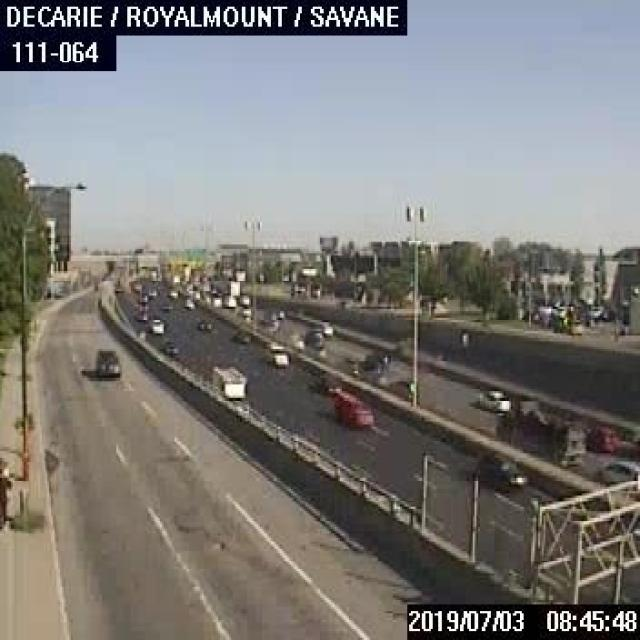vehicle: (494, 402, 586, 466), (329, 386, 376, 426), (354, 349, 396, 384), (209, 362, 249, 398), (491, 456, 527, 486), (596, 458, 638, 482), (93, 344, 122, 376), (475, 388, 509, 411), (583, 424, 615, 448), (260, 340, 289, 366), (300, 328, 325, 346), (310, 318, 332, 335), (229, 327, 253, 342), (146, 317, 163, 333), (194, 318, 211, 333), (161, 338, 176, 354), (236, 305, 250, 318), (220, 292, 234, 304), (272, 306, 284, 318), (236, 292, 248, 304)
